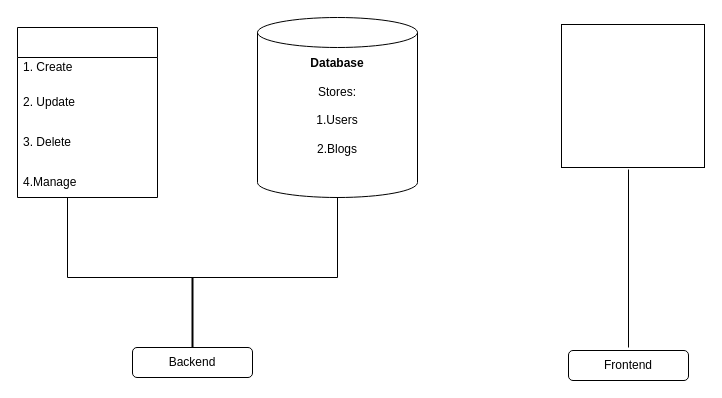
Some shapes in this 722 by 398 pixel diagram are drawn without their labels. Here are the shapes that lost their labels. From the top down, the box of each, then its label:
(16, 26, 158, 198): CMS
(560, 24, 704, 168): SSR Nextjs
